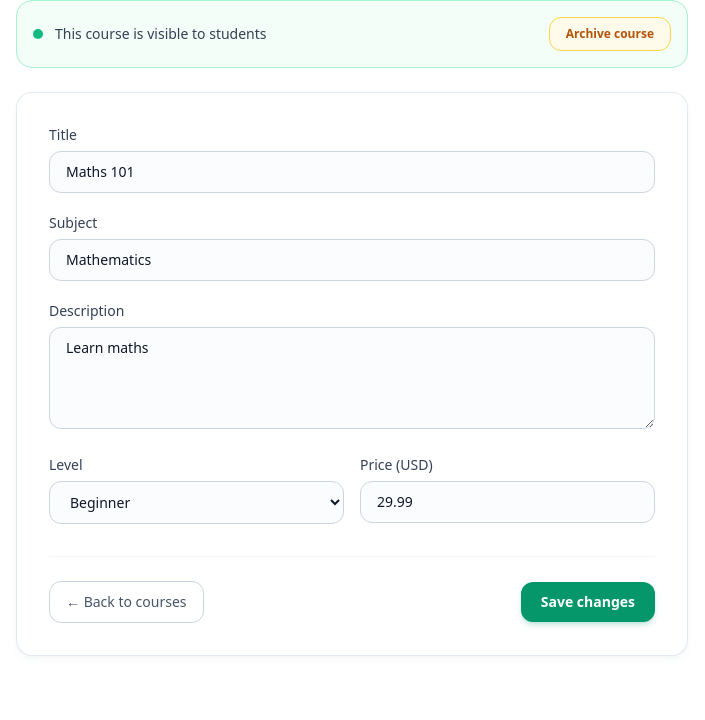
Test: EditCourseForm › shows "Course archived." success message after archiving (FR5)
Click the button "Archive course".
click(610, 34)  # box [549,17,671,51]
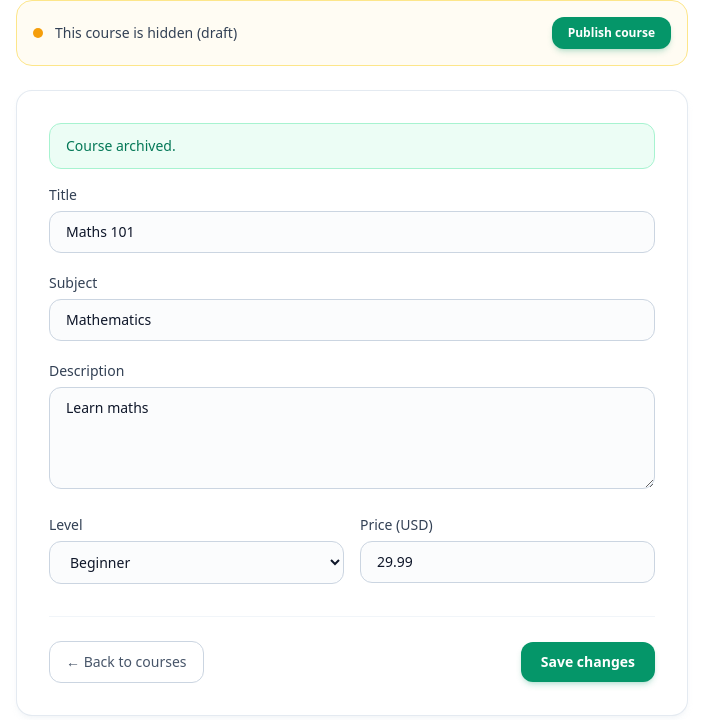
Expected: the text "Course archived." is shown, [49,123,655,169]
